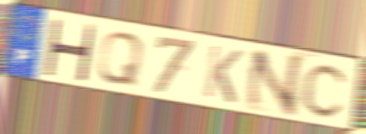7: (150, 34, 197, 95)
C: (299, 61, 352, 120)
H: (41, 16, 98, 84)
K: (200, 42, 245, 106)
N: (242, 49, 309, 118)
Q: (94, 30, 147, 88)
